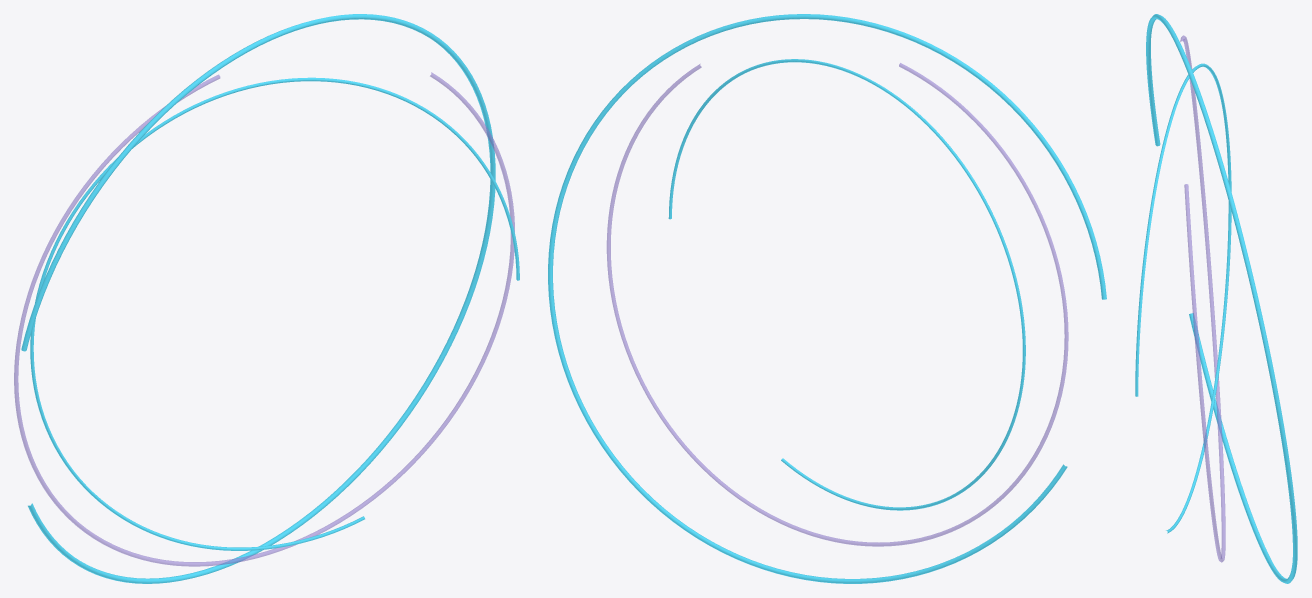
Rendered from 02_hologram_rings.glb.
3 renders of one model, left to right at view 1: azimuth 30°, elevation 25°; view 2: azimuth 150°, elevation 25°; view 3: azimuth 270°, elevation 25°, orthographic. The views are drawn at different scales.
Visible parts, largest first — view 1: orbit_2, orbit_1, orbit_0; view 2: orbit_2, orbit_1, orbit_0; view 3: orbit_2, orbit_1, orbit_0.
Boxes of the visible parts, box(x1,y1,x2,y2) form: orbit_2: box(21, 14, 495, 583); orbit_1: box(14, 72, 514, 566); orbit_0: box(30, 77, 519, 550); orbit_2: box(548, 14, 1106, 583); orbit_1: box(606, 63, 1068, 546); orbit_0: box(668, 59, 1025, 510); orbit_2: box(1146, 14, 1297, 583); orbit_1: box(1180, 35, 1225, 562); orbit_0: box(1135, 63, 1231, 533).
Bounding box in the file's own units: 4.73 × 4.8 × 1.35.
